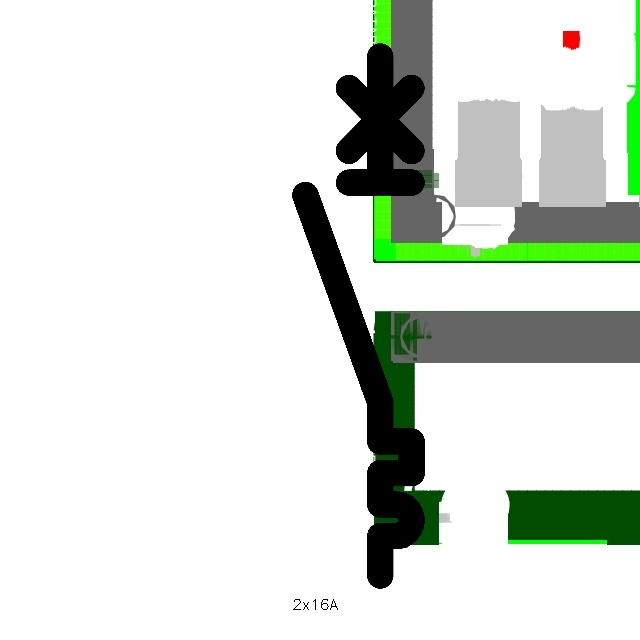interruptor_termomagnetico: (292, 43, 425, 589)
